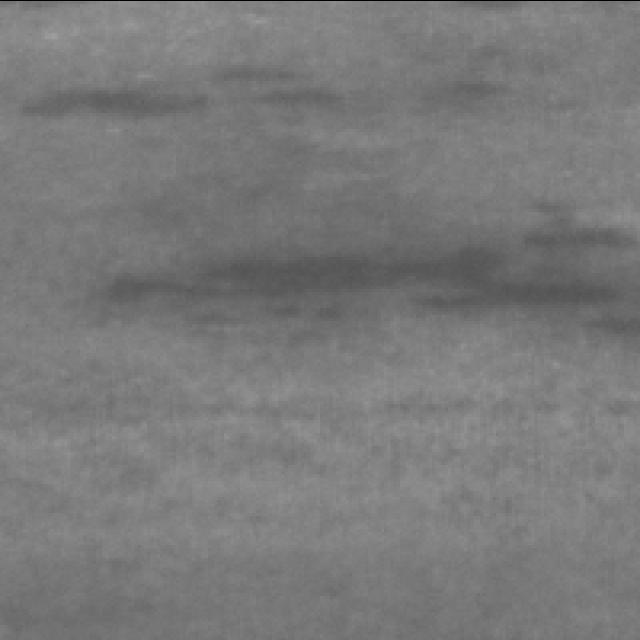inclusion: (78, 237, 635, 325), (8, 65, 202, 144), (220, 54, 354, 128), (399, 56, 520, 121)
